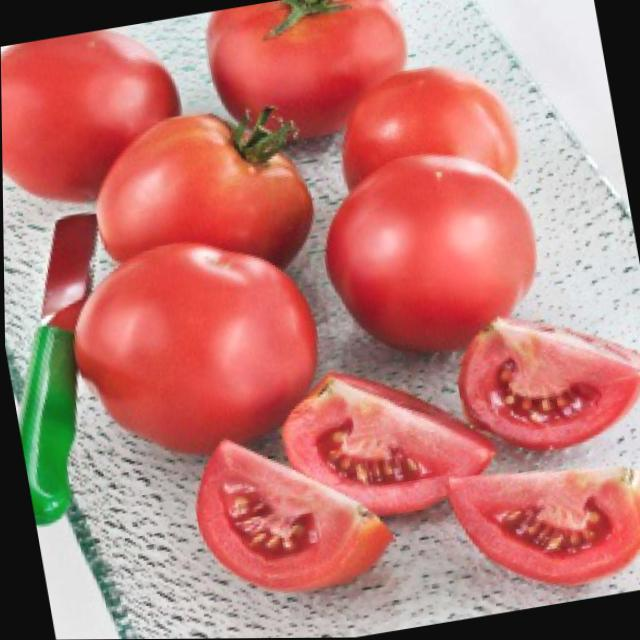tomato: (60, 237, 327, 468), (316, 149, 549, 365), (79, 100, 324, 298), (0, 22, 192, 216), (197, 0, 422, 154), (327, 55, 526, 211)
